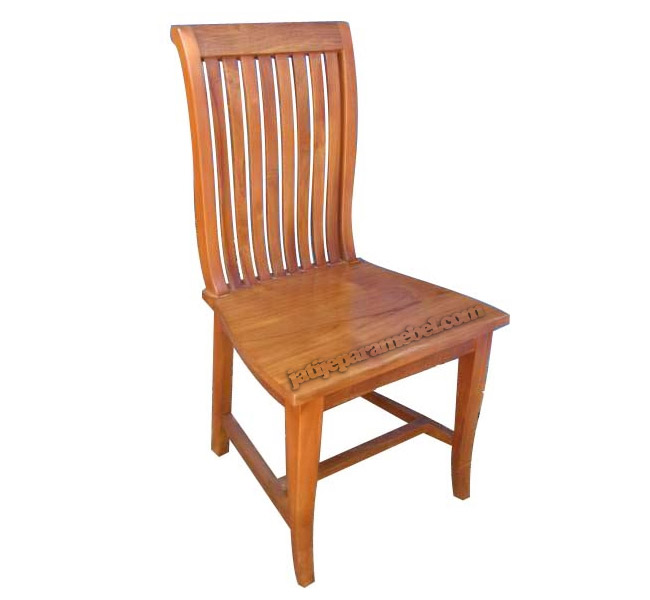Carving Chair: (169, 20, 509, 576)
